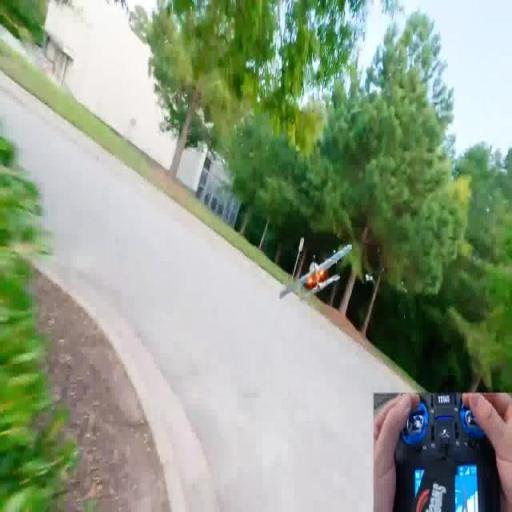uav: (278, 240, 358, 306)
